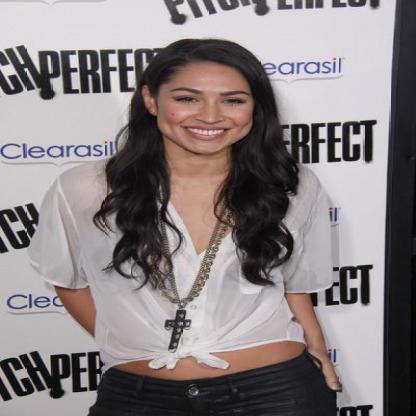long-hair: (100, 155, 299, 197)
